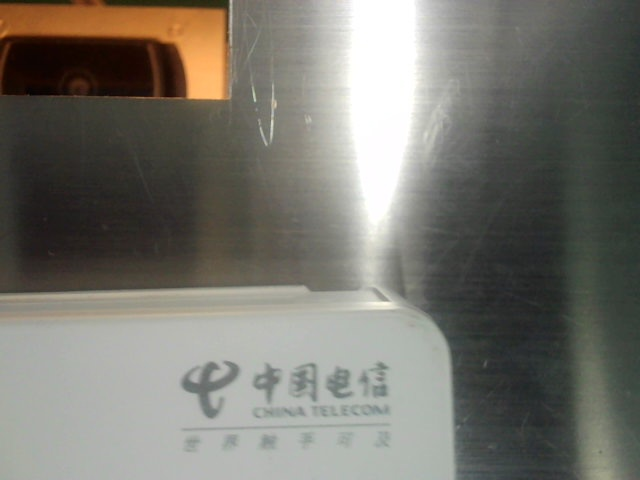AB_ChinaTelecom: (166, 353, 407, 459)
